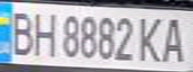2: (115, 12, 139, 62)
8: (57, 10, 81, 58), (78, 11, 100, 60), (97, 12, 118, 61)
A: (160, 13, 190, 64)
B: (3, 7, 36, 57)
H: (30, 8, 57, 59)
K: (136, 12, 169, 63)
